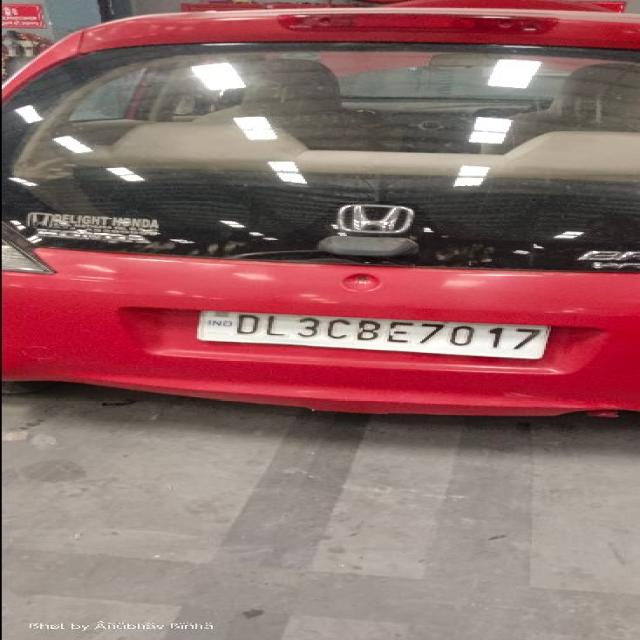license_plate: (194, 309, 551, 360)
